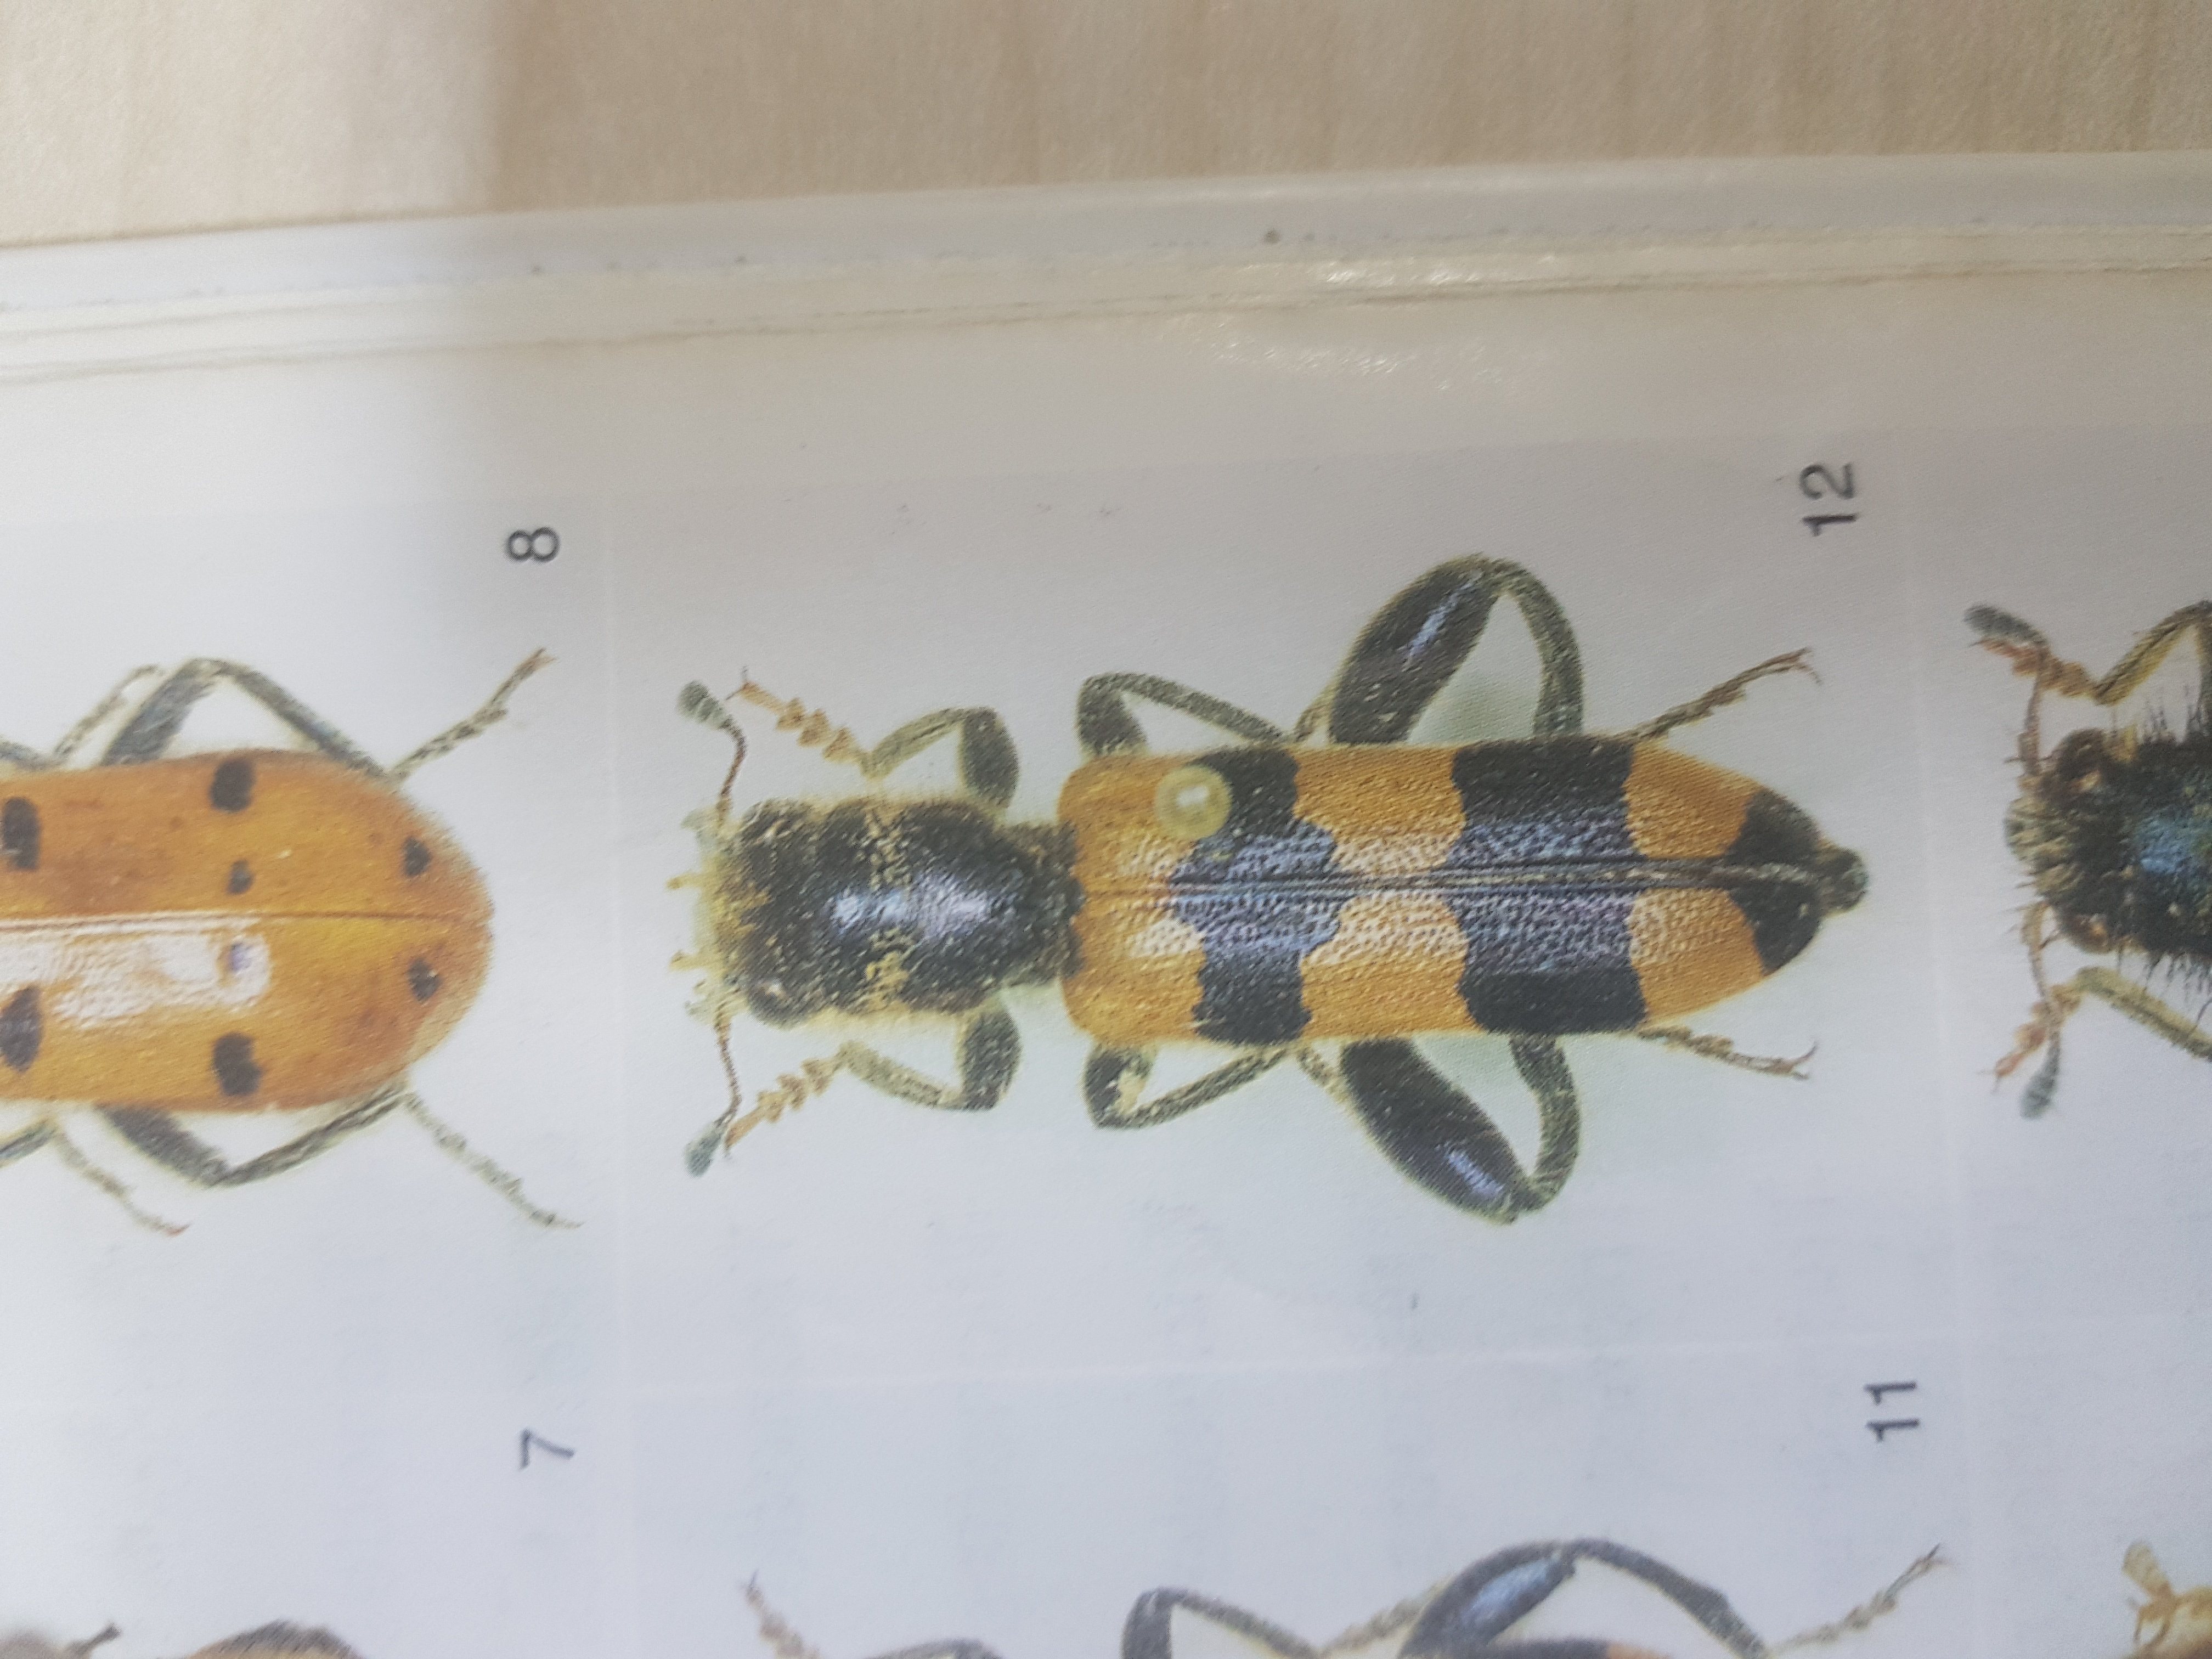trichodes_crabroniformis: (660, 552, 1871, 1260)
